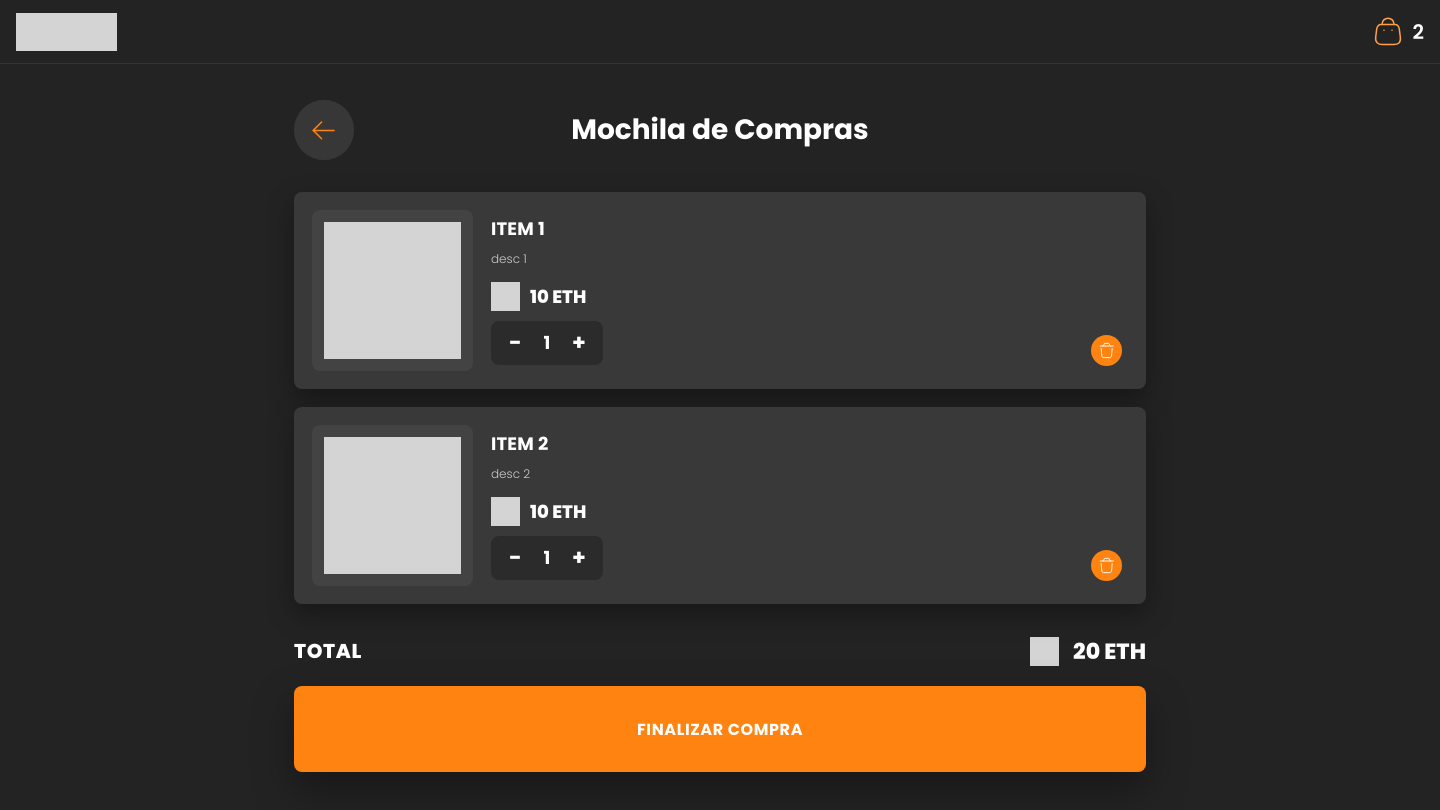
Test: CartPage › renderiza total, abre modal e ao finalizar compra limpa carrinho e mostra estado vazio
Expected: the element with class "summary" is shown, [294, 626, 1146, 772]
Expected: the text "TOTAL" is shown, [294, 636, 362, 666]
Click the button "FINALIZAR COMPRA" at point(720, 729), box [294, 686, 1146, 772]
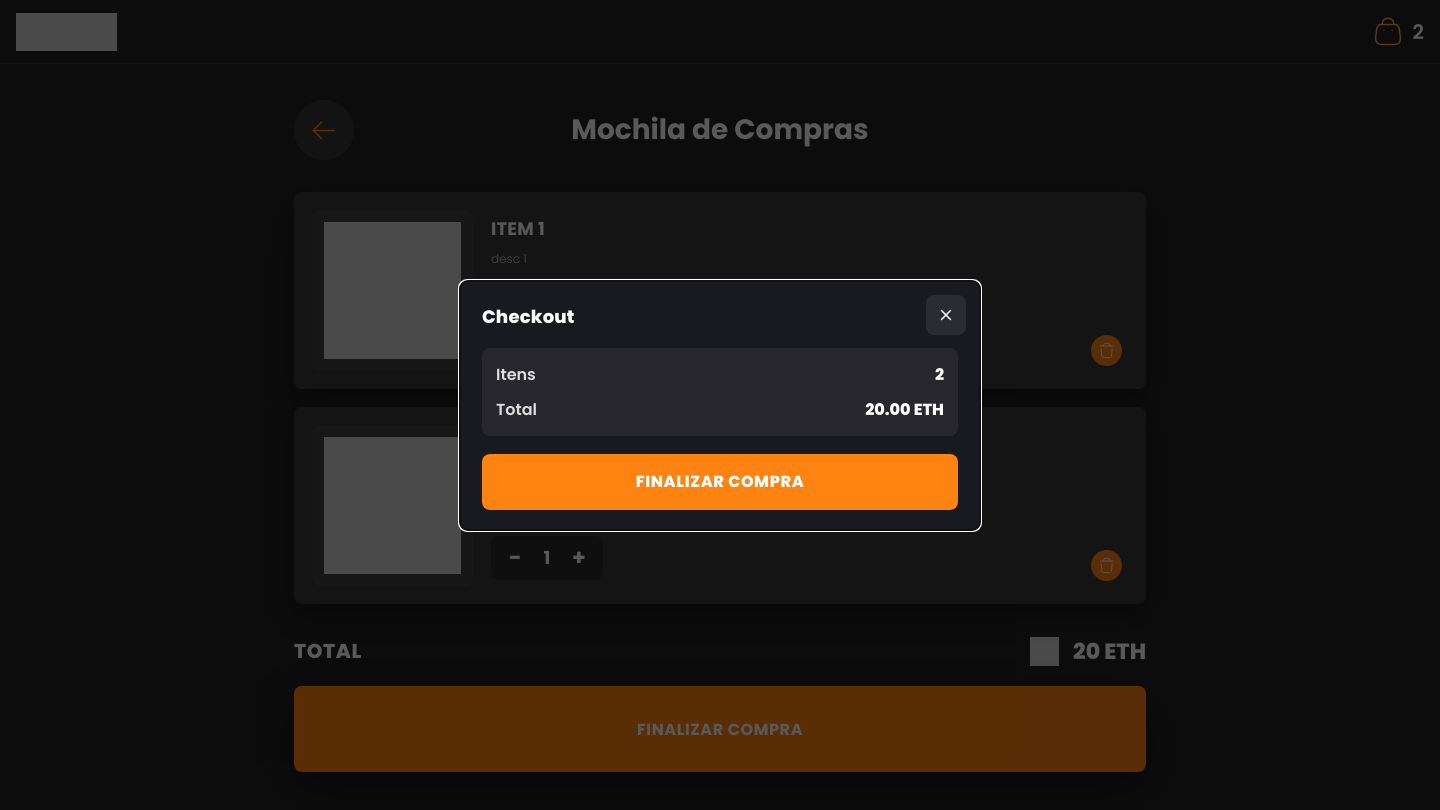
Expected: the heading "Checkout" is shown, [482, 304, 575, 328]
Click the button "FINALIZAR COMPRA" at point(720, 482), box [482, 454, 958, 510]
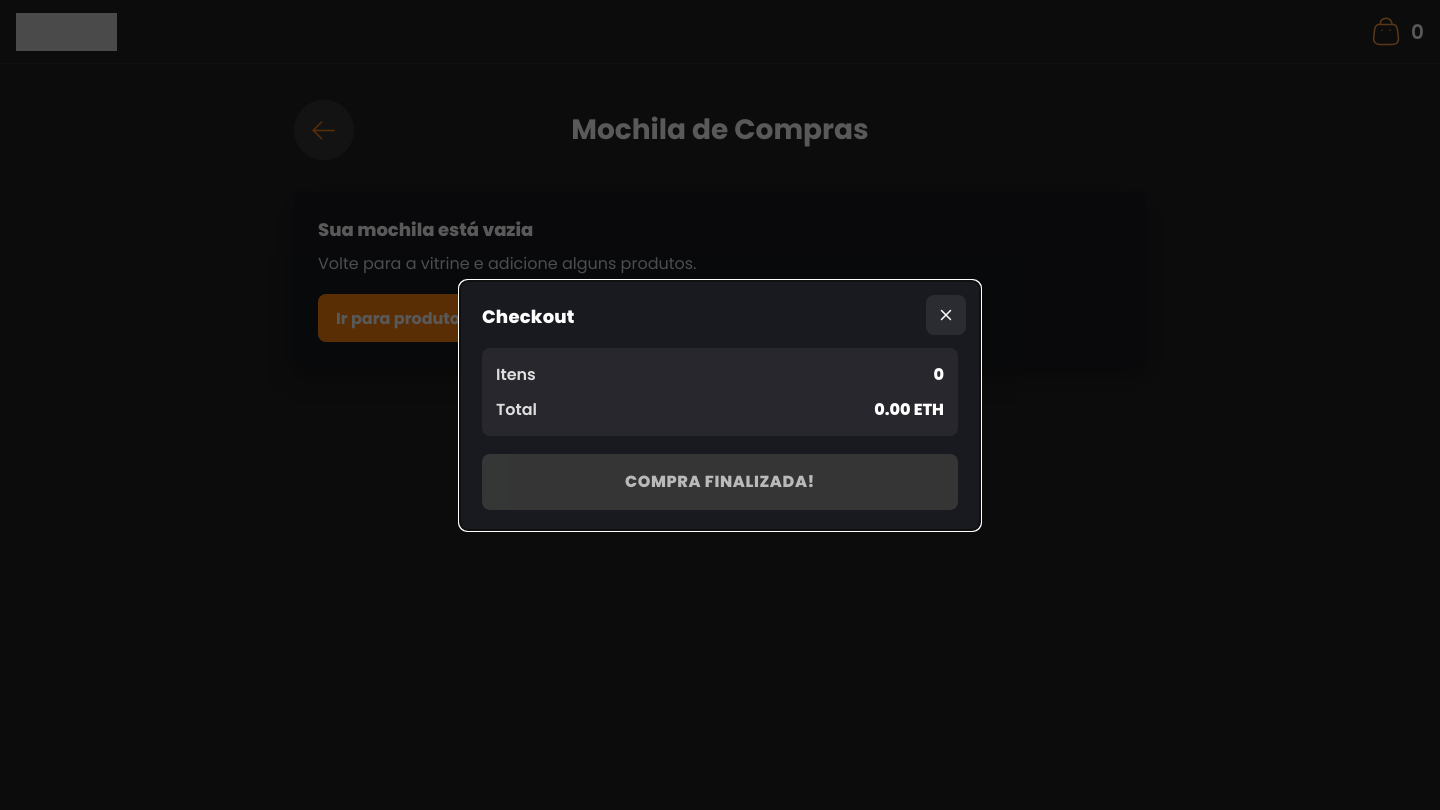
Expected: the text "Sua mochila está vazia" is shown, [318, 217, 533, 242]
